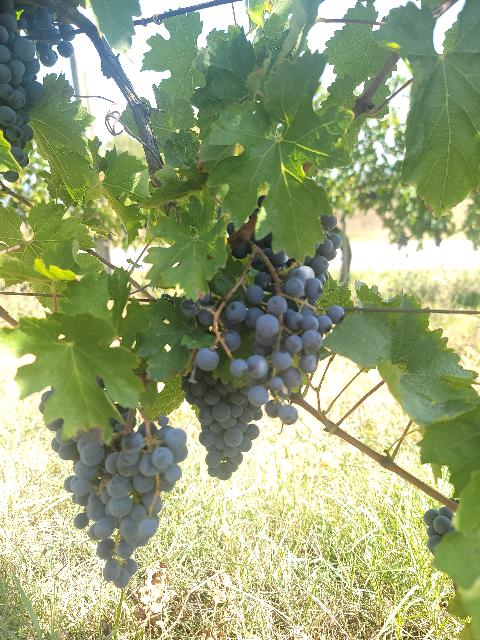grapes: (58, 416, 188, 589), (222, 245, 344, 399), (181, 368, 261, 480)
